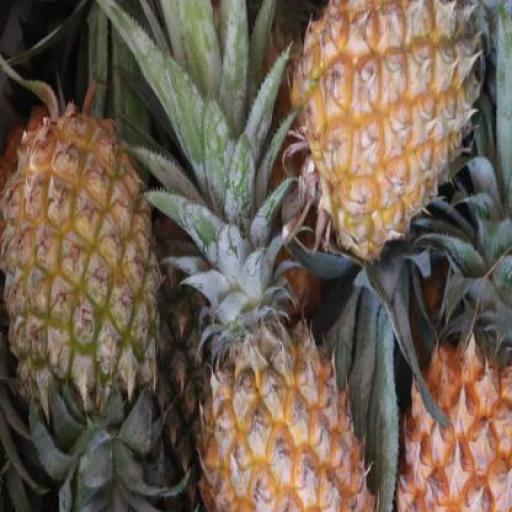------------------------------: (2, 111, 158, 405)
Pineapple - v8 v1: (286, 0, 487, 263), (189, 320, 370, 512), (390, 334, 512, 512)
